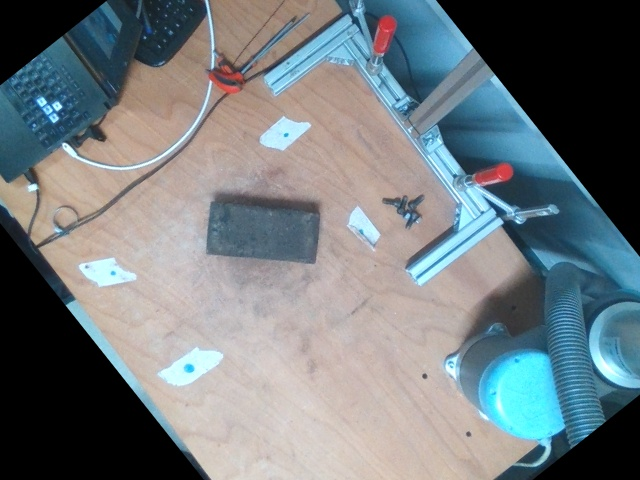brick: (207, 204, 321, 263)
